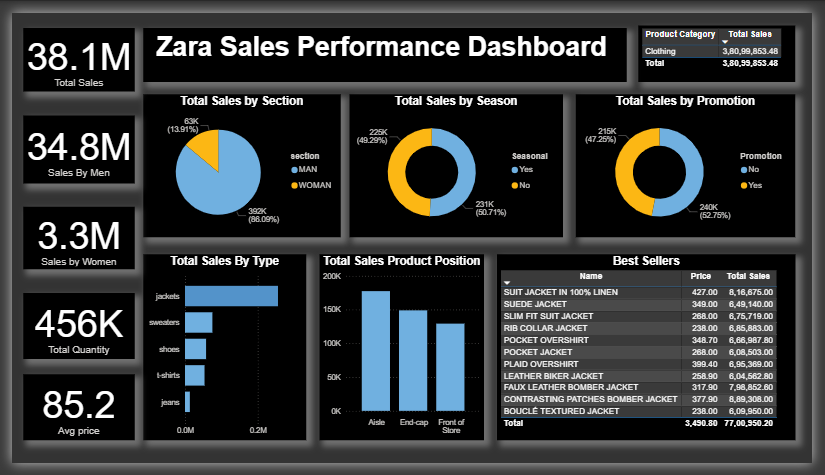

Layout of this report page (visuals, bound fields, positions):
{"tool":"powerbi","page":{"name":"Page 1","canvas":[1280,720],"ordinal":0},"visuals":[{"type":"card","fields":{"Values":["zara.Total Quantity"]},"box":[17.8,447.3,178.4,105.7],"z":0},{"type":"pieChart","title":"Total Sales by Section","fields":{"Category":["zara.section"],"Y":["Sum(zara.Sales Volume)"]},"box":[209.9,130.4,315.6,229.2],"z":1000},{"type":"columnChart","title":"Total Sales Product Position","fields":{"Category":["zara.Product Position"],"Y":["Sum(zara.Sales Volume)"]},"box":[491.3,385.6,263.5,297.8],"z":2000},{"type":"donutChart","title":"Total Sales by Season","fields":{"Category":["zara.Seasonal"],"Y":["Sum(zara.Sales Volume)"]},"box":[540.7,130.4,341.7,229.2],"z":3000},{"type":"donutChart","title":"Total Sales by Promotion","fields":{"Category":["zara.Promotion"],"Y":["Sum(zara.Sales Volume)"]},"box":[901.5,130.4,351.3,229.2],"z":4000},{"type":"clusteredBarChart","title":"Total Sales By Type","fields":{"Category":["zara.terms"],"Y":["Sum(zara.Sales Volume)"]},"box":[209.9,385.6,260.7,297.8],"z":5000},{"type":"card","fields":{"Values":["zara.total sales"]},"box":[17.8,24.7,178.4,101.5],"z":6000},{"type":"card","fields":{"Values":["zara.total sales"]},"box":[17.8,163.3,178.4,108.4],"z":7000},{"type":"card","fields":{"Values":["zara.total sales"]},"box":[17.8,310.1,178.4,100.2],"z":8000},{"type":"card","fields":{"Values":["zara.Avg price"]},"box":[17.8,577.7,178.4,105.7],"z":9000},{"type":"tableEx","fields":{"Values":["zara.Product Category","zara.total sales"]},"box":[1001.7,20.6,251.1,90.6],"z":10000},{"type":"tableEx","title":"Best Sellers","fields":{"Values":["zara.name","Sum(zara.price)","zara.total sales"]},"box":[775.3,385.6,477.5,297.8],"z":11000},{"type":"textbox","box":[209.9,24.7,773.9,86.4],"z":13000}]}

Visuals, with their boxes in screenshot pixels (x1, y1, x2, y2), scaled from the page's 1280x720 canvas onto the 825x475 screenshot:
card - zara.Total Quantity: box=[11, 295, 126, 365]
"Total Sales by Section" pieChart: box=[135, 86, 339, 237]
"Total Sales Product Position" columnChart: box=[317, 254, 486, 451]
"Total Sales by Season" donutChart: box=[348, 86, 569, 237]
"Total Sales by Promotion" donutChart: box=[581, 86, 807, 237]
"Total Sales By Type" clusteredBarChart: box=[135, 254, 303, 451]
card - zara.total sales: box=[11, 16, 126, 83]
card - zara.total sales: box=[11, 108, 126, 179]
card - zara.total sales: box=[11, 205, 126, 271]
card - zara.Avg price: box=[11, 381, 126, 451]
tableEx - zara.Product Category x zara.total sales: box=[646, 14, 807, 73]
"Best Sellers" tableEx: box=[500, 254, 807, 451]
textbox: box=[135, 16, 634, 73]
